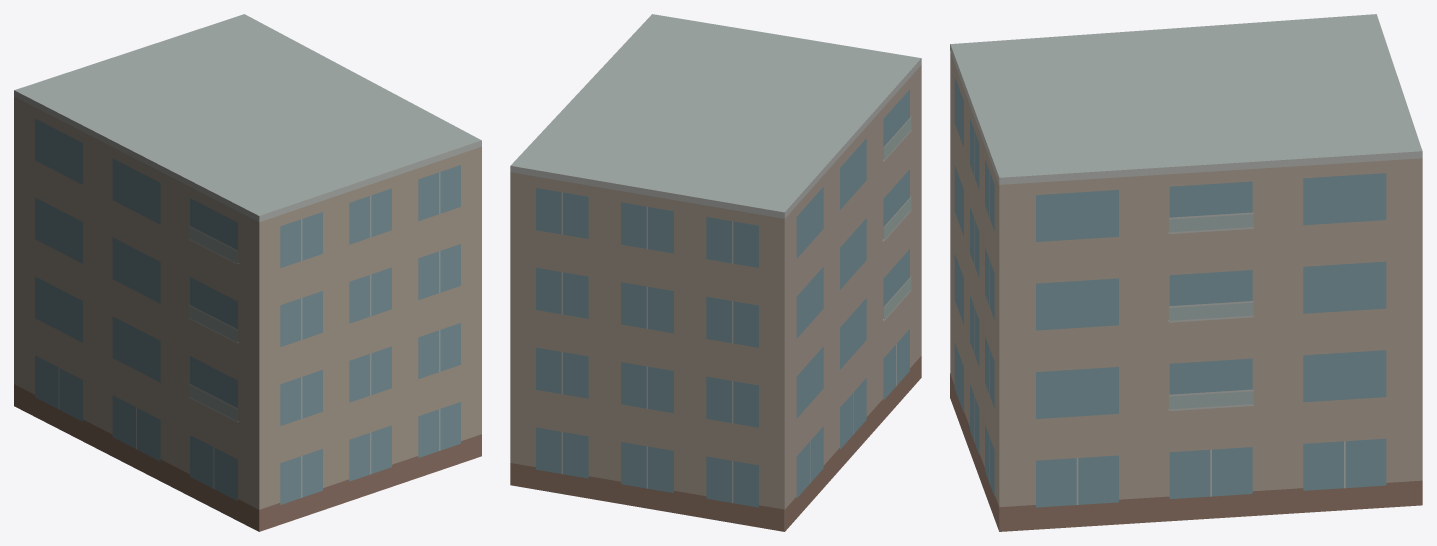
File: survey-upis-32807965.glb
The picture shows the model from 3 angles, left to right: view 1: azimuth 30°, elevation 25°; view 2: azimuth 150°, elevation 25°; view 3: azimuth 270°, elevation 25°; orthographic projection. The views are drawn at different scales.
Visible parts, largest first — view 1: survey-upis-32807965.tmp; view 2: survey-upis-32807965.tmp; view 3: survey-upis-32807965.tmp.
Boxes of the visible parts, x1,y1,x2,y2 form: survey-upis-32807965.tmp: (14,14,481,531); survey-upis-32807965.tmp: (510,14,921,531); survey-upis-32807965.tmp: (950,14,1422,531).
Size of the model in its own units: 12.11 by 12.2 by 14.76.
